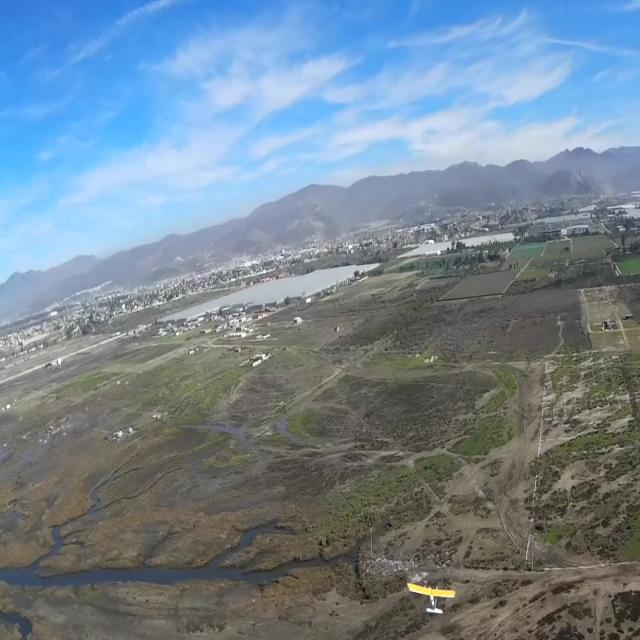iha: (407, 579, 456, 617)
